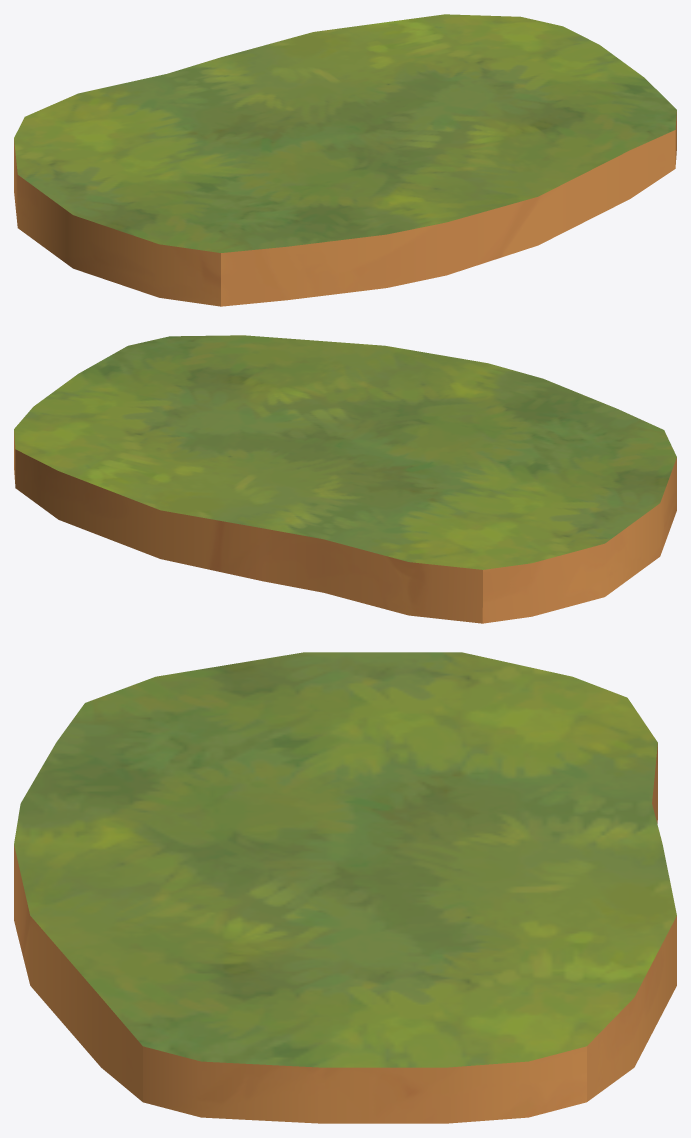
Rendered from Wall v3 Base.fbx.
3 renders of one model, top to bottom at view 1: azimuth 30°, elevation 25°; view 2: azimuth 150°, elevation 25°; view 3: azimuth 270°, elevation 25°, orthographic. The views are drawn at different scales.
Parts seen in each view (by area): view 1: polySurface21; view 2: polySurface21; view 3: polySurface21.
Part boxes in pixels (bbox=[...]): polySurface21: bbox=[14, 14, 676, 306]; polySurface21: bbox=[14, 335, 676, 623]; polySurface21: bbox=[14, 652, 676, 1123].
Bounding box in the file's own units: 1063 × 94.27 × 736.
Materials: 1 (1 with a texture image).
